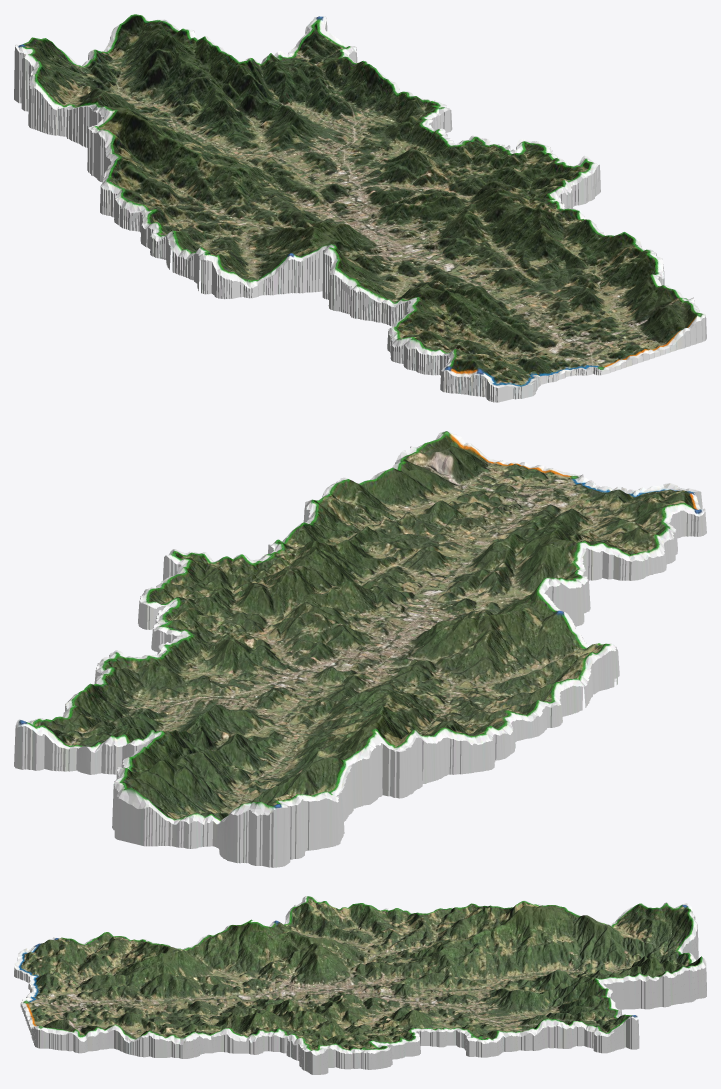
3 views of the same model, one above another, from view 1: azimuth 30°, elevation 25°; view 2: azimuth 150°, elevation 25°; view 3: azimuth 270°, elevation 25° (orthographic). The views are drawn at different scales.
Size of the model in its own units: 1 by 0.1364 by 1.92.
1 material, 1 textured.
